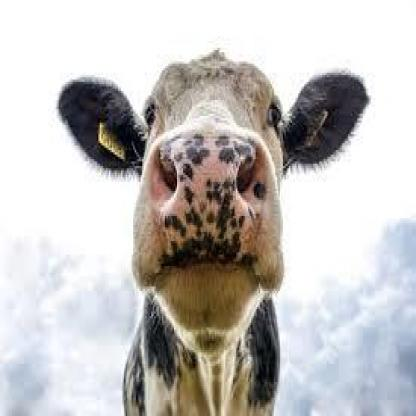cow: (57, 49, 370, 415)
